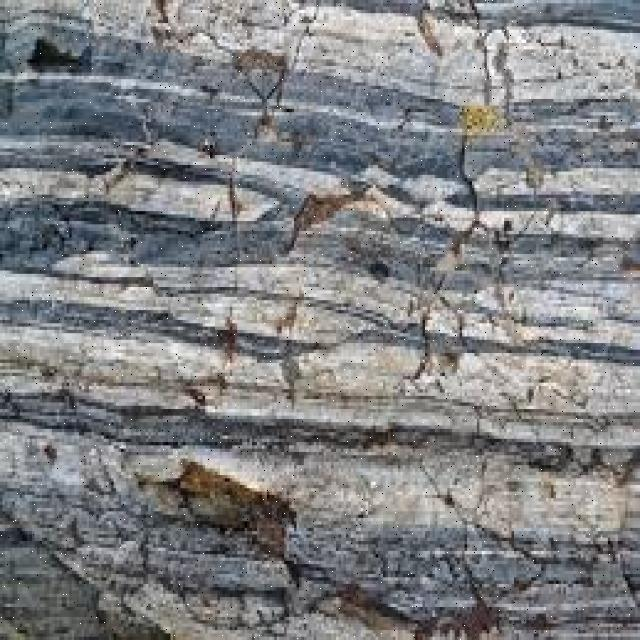Metamorphic: (5, 6, 630, 640)
